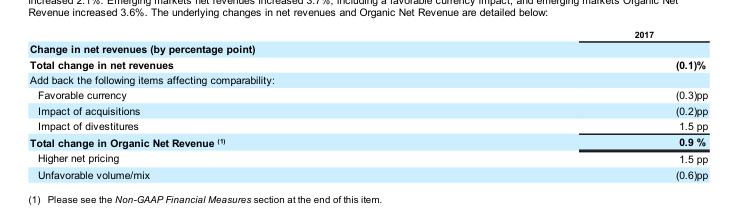table: (29, 28, 707, 179)
table column: (29, 28, 429, 179), (429, 28, 707, 179)
table column header: (29, 28, 707, 40)
table projected row header: (29, 40, 707, 56), (29, 71, 707, 87)
table row: (29, 149, 707, 166), (29, 40, 707, 56), (29, 71, 707, 87), (29, 117, 707, 133), (29, 133, 707, 149), (29, 56, 707, 71), (29, 87, 707, 102), (29, 102, 707, 117), (29, 166, 707, 179), (29, 28, 707, 40)
